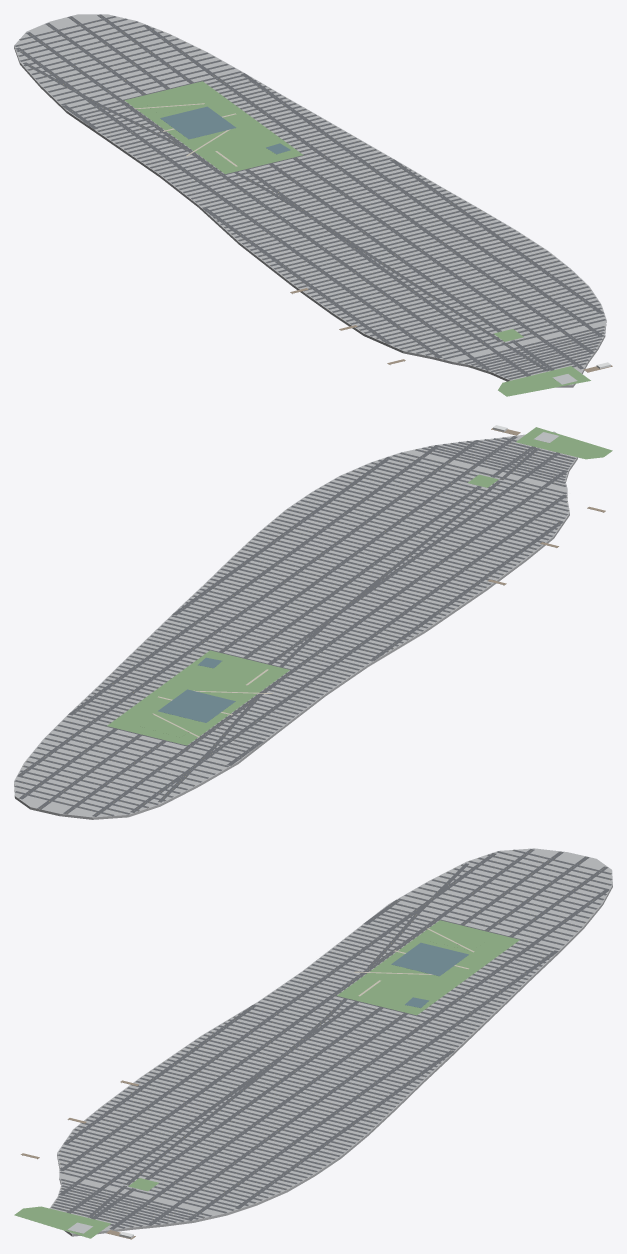
File: city_ground.glb
3 renders of one model, top to bottom at view 1: azimuth 30°, elevation 25°; view 2: azimuth 150°, elevation 25°; view 3: azimuth 330°, elevation 25°, orthographic. The views are drawn at different scales.
Visible parts, largest first — view 1: city_ground_concrete, city_ground_asphalt_st, city_ground_asphalt, city_ground_grass, city_ground_asphalt_bw, city_ground_water_pond; view 2: city_ground_concrete, city_ground_asphalt_st, city_ground_asphalt, city_ground_grass, city_ground_asphalt_bw, city_ground_water_pond; view 3: city_ground_concrete, city_ground_asphalt_st, city_ground_asphalt, city_ground_grass, city_ground_asphalt_bw, city_ground_water_pond.
Part boxes in pixels (<box>): city_ground_concrete: <box>14,14,606,387</box>; city_ground_asphalt_st: <box>14,16,606,379</box>; city_ground_asphalt: <box>15,14,604,376</box>; city_ground_grass: <box>124,81,590,396</box>; city_ground_asphalt_bw: <box>23,62,549,371</box>; city_ground_water_pond: <box>160,106,290,154</box>; city_ground_concrete: <box>14,431,577,819</box>; city_ground_asphalt_st: <box>14,437,575,816</box>; city_ground_asphalt: <box>17,436,568,816</box>; city_ground_grass: <box>107,427,612,745</box>; city_ground_asphalt_bw: <box>158,448,539,802</box>; city_ground_water_pond: <box>158,657,235,722</box>; city_ground_concrete: <box>49,848,612,1236</box>; city_ground_asphalt_st: <box>51,849,612,1228</box>; city_ground_asphalt: <box>58,849,609,1229</box>; city_ground_grass: <box>14,920,519,1238</box>; city_ground_asphalt_bw: <box>88,863,468,1217</box>; city_ground_water_pond: <box>391,942,468,1007</box>.
Bounding box in the file's own units: 847 × 14.49 × 3115.
